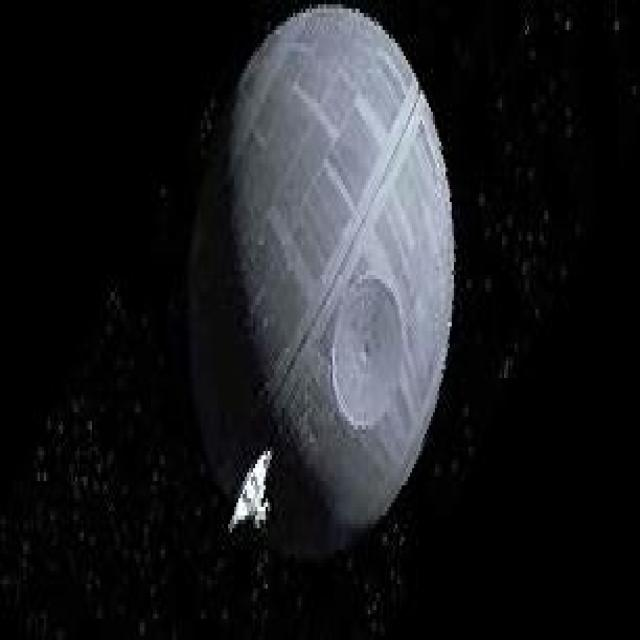Death Star: (187, 2, 458, 562)
